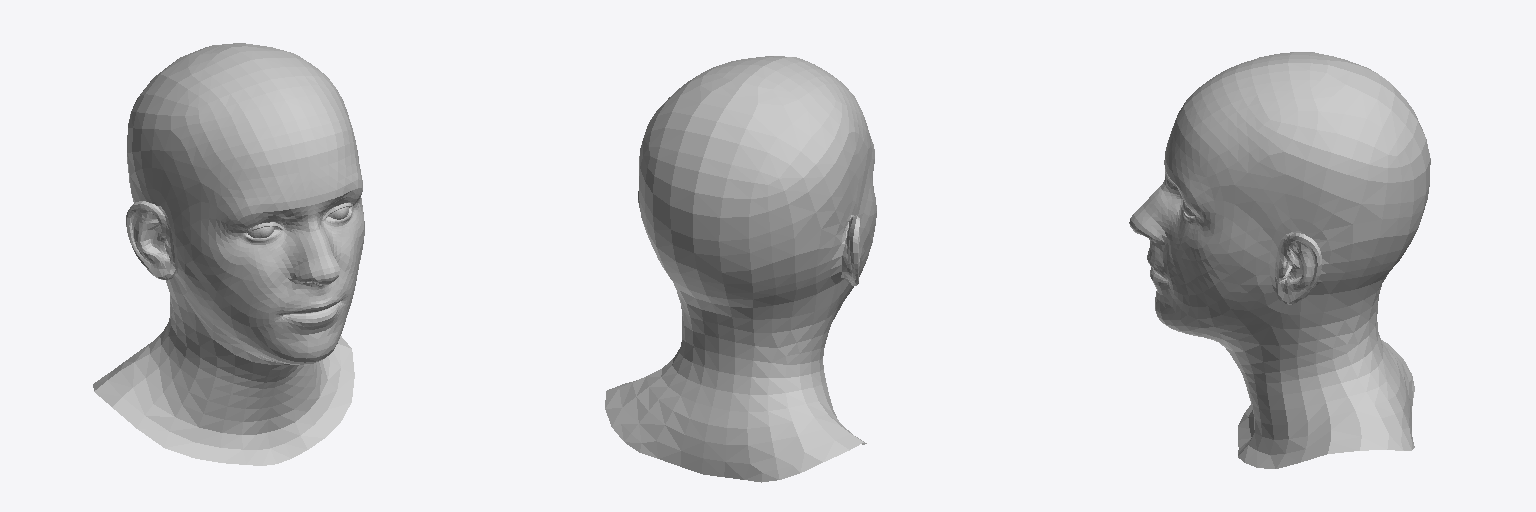
File: ballProjection.obj
The picture shows the model from 3 angles: view 1: azimuth 30°, elevation 25°; view 2: azimuth 150°, elevation 25°; view 3: azimuth 270°, elevation 25°; orthographic projection.
Parts seen in each view (by area): view 1: head_template; view 2: head_template; view 3: head_template.
Part boxes in pixels (bbox=[...]): head_template: bbox=[93, 43, 364, 465]; head_template: bbox=[605, 56, 876, 482]; head_template: bbox=[1129, 52, 1430, 468].
Bounding box in the file's own units: 0.2073 × 0.3136 × 0.2217.